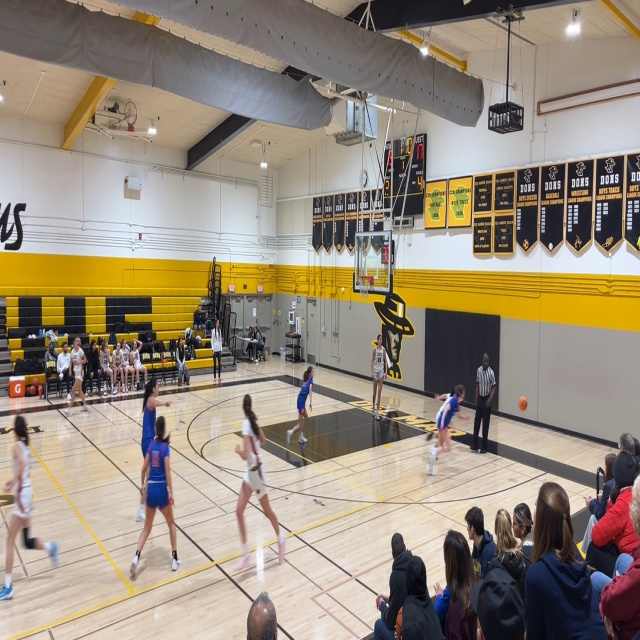Basketball: (518, 396, 528, 411)
